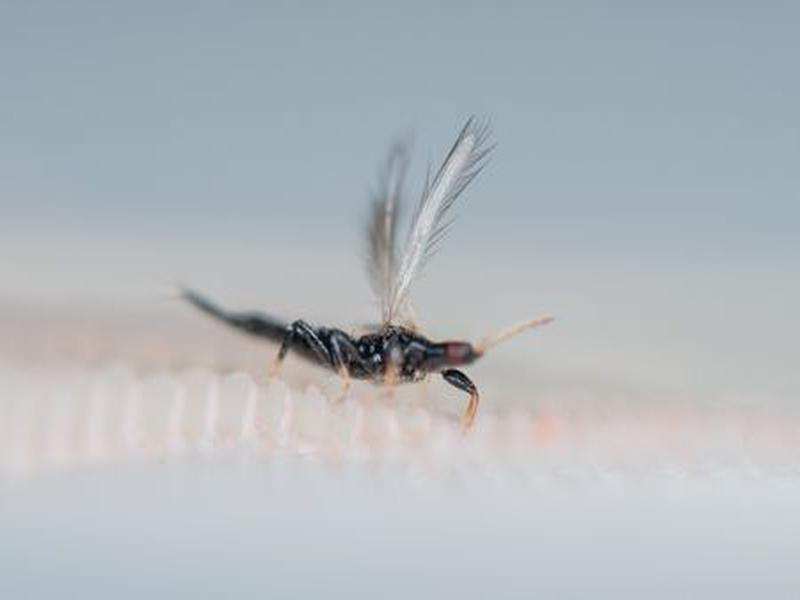Thrips: (173, 267, 526, 430)
